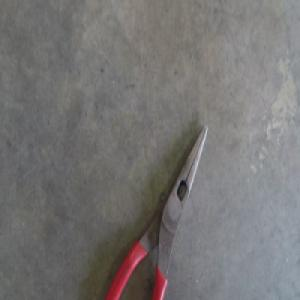Pliers: (105, 121, 208, 299)
